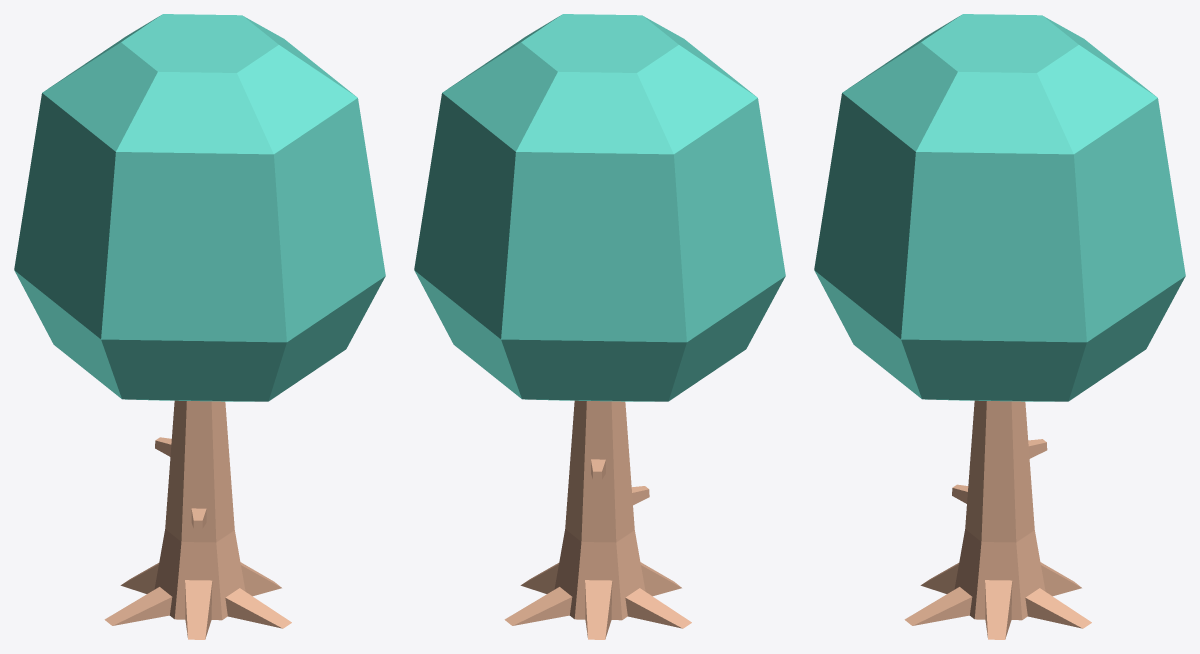
File: tree.glb
3 renders of one model, left to right at view 1: azimuth 30°, elevation 25°; view 2: azimuth 150°, elevation 25°; view 3: azimuth 270°, elevation 25°, orthographic.
Parts seen in each view (by area): view 1: tree; view 2: tree; view 3: tree.
Part boxes in pixels (x1=…): tree: x1=14, y1=14, x2=385, y2=639; tree: x1=414, y1=14, x2=785, y2=639; tree: x1=814, y1=14, x2=1185, y2=639.
Size of the model in its own units: 1.11 by 2.08 by 1.25.
